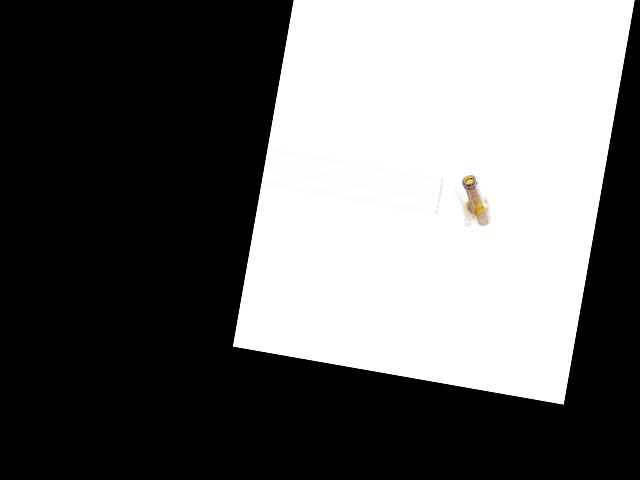beer: (454, 173, 497, 227)
